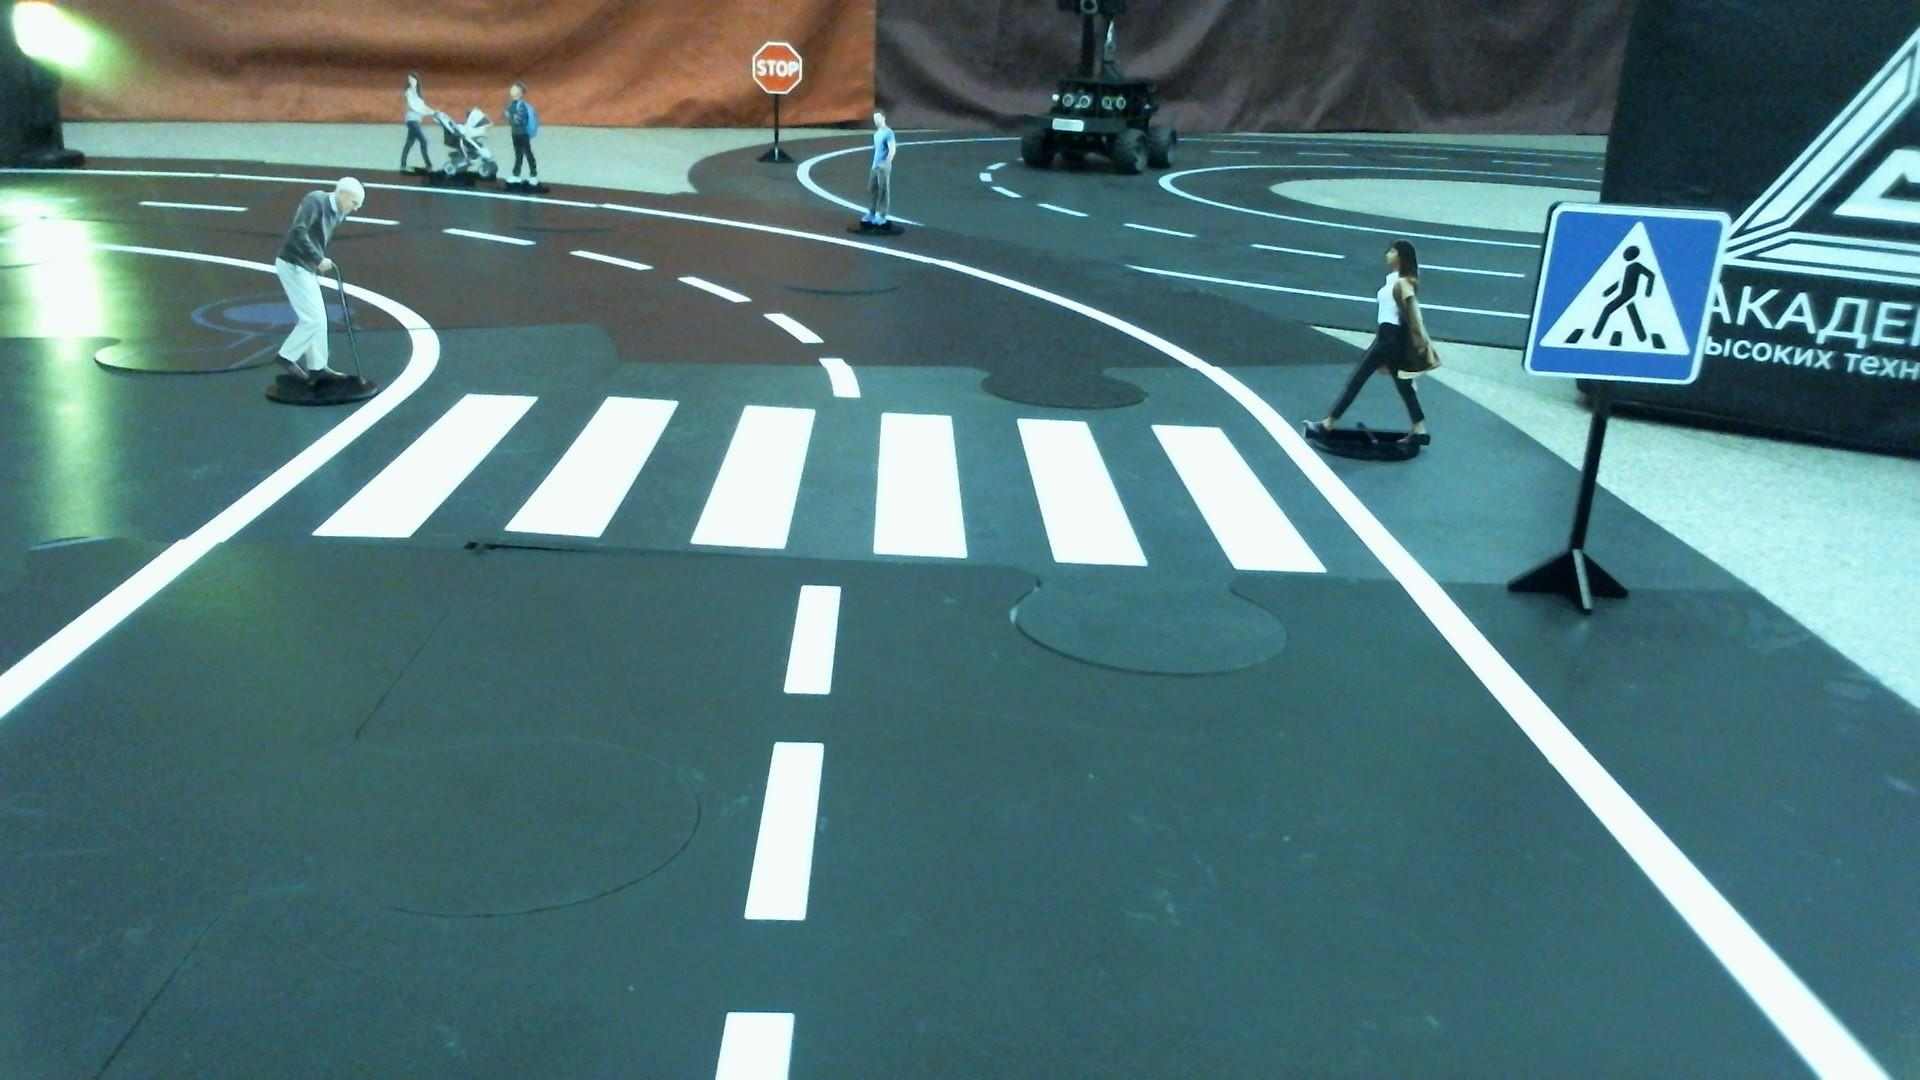crossing: (282, 388, 1400, 597)
person: (1298, 243, 1442, 470), (263, 173, 380, 410), (398, 75, 498, 190), (850, 102, 908, 238), (503, 75, 550, 190)
